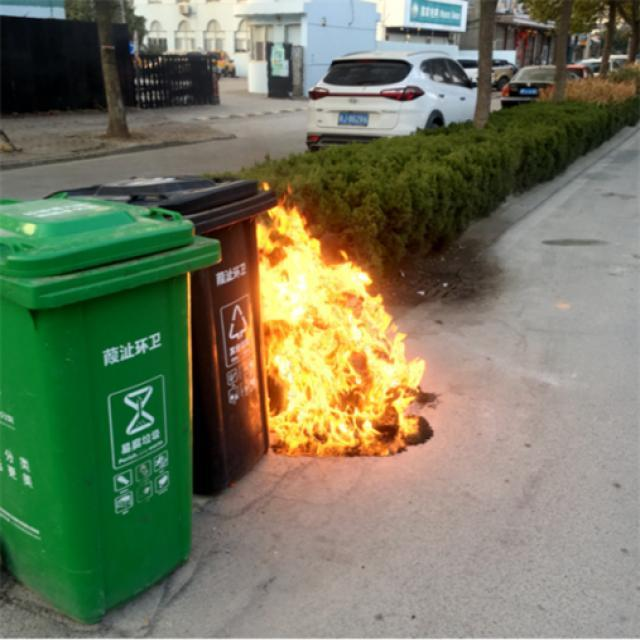Fire: (256, 184, 434, 456)
